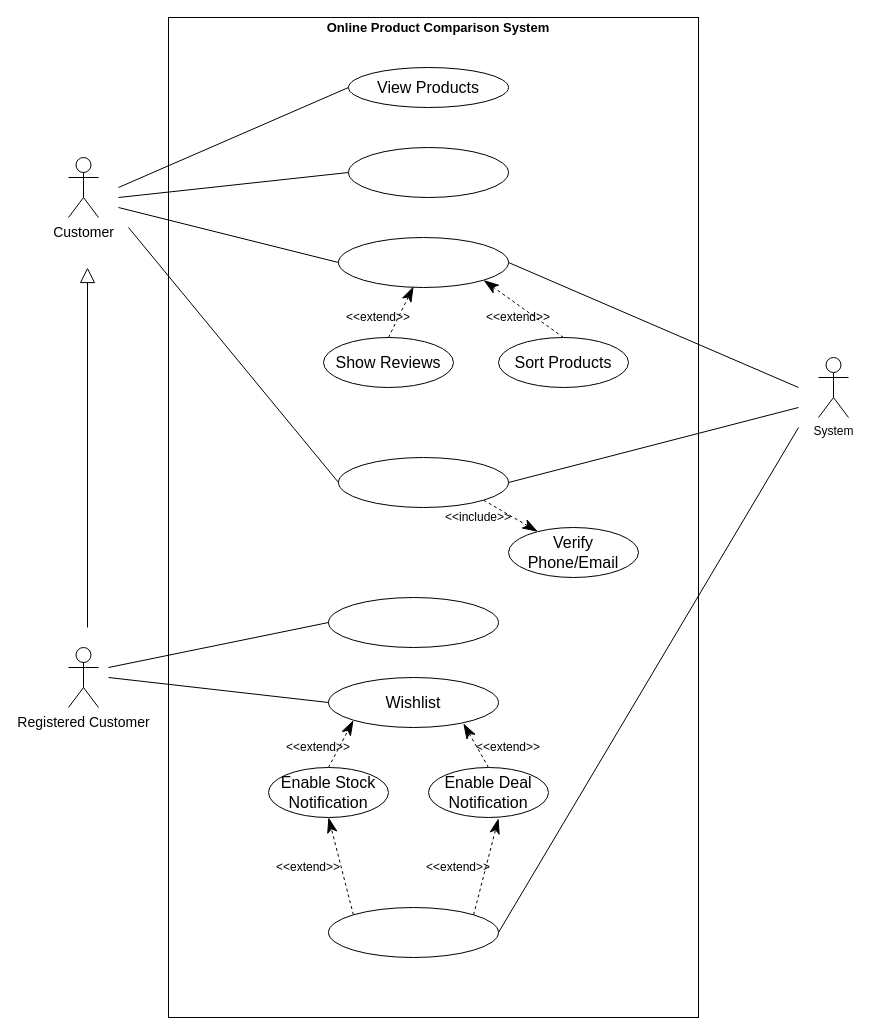
Some shapes in this 870 by 1035 pixel diagram are drawn without their labels. Each missing label, with the centre of its shape:
Notify: the point at 413,932
Search Products: the point at 428,172
Show Products: the point at 423,262
Sign Up: the point at 423,482
Submit Review: the point at 413,622
